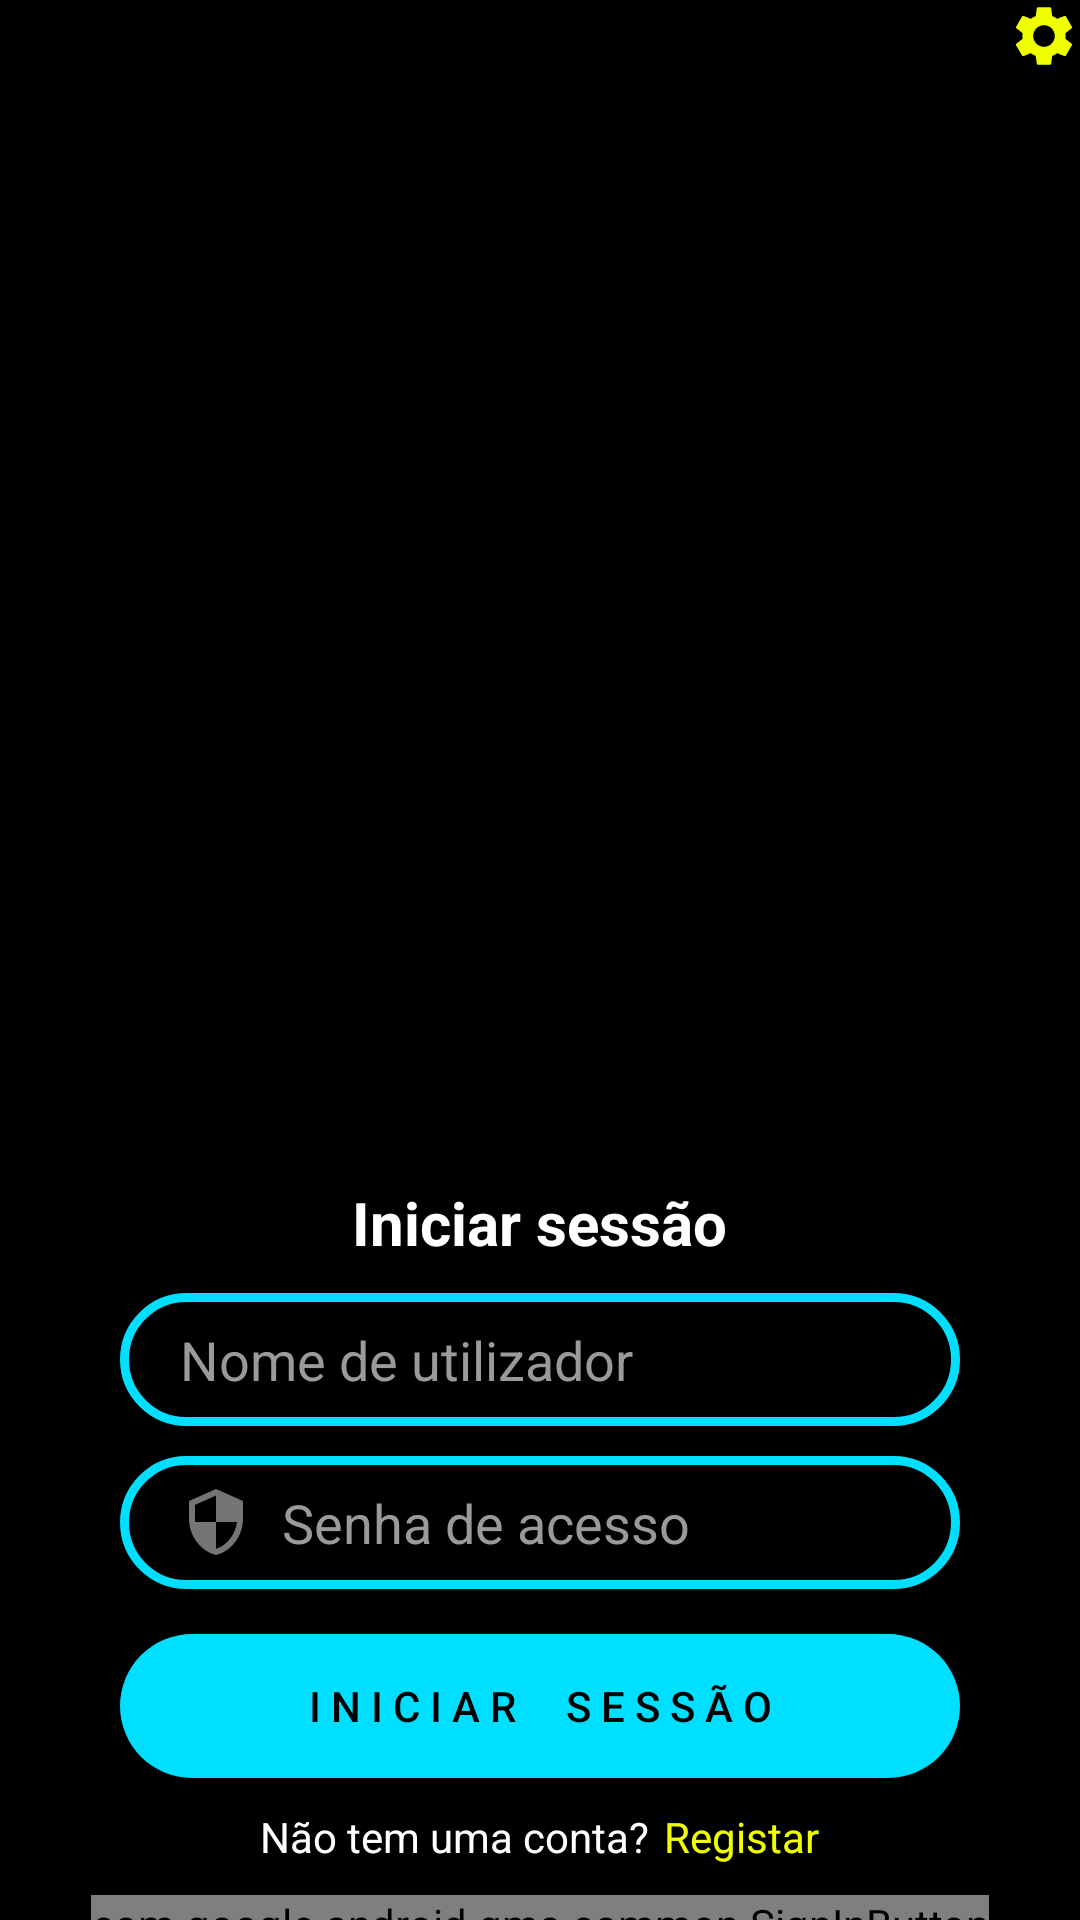

Named icons in this screenshot (1080px×1920px) and their centers, [x,y]:
settings: [1044,36]
